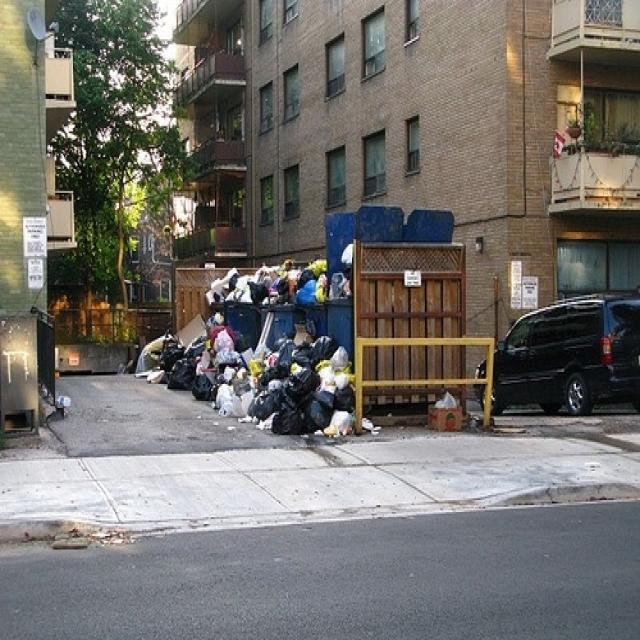garbage: (160, 268, 353, 433)
